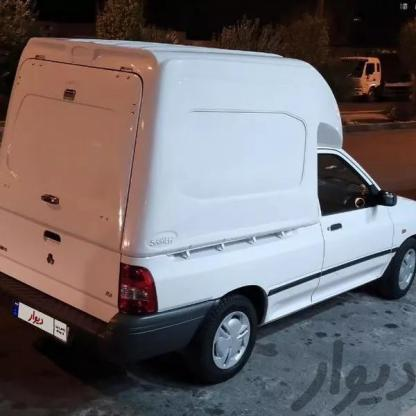Car: (0, 43, 416, 365)
Truck: (327, 35, 416, 107)
